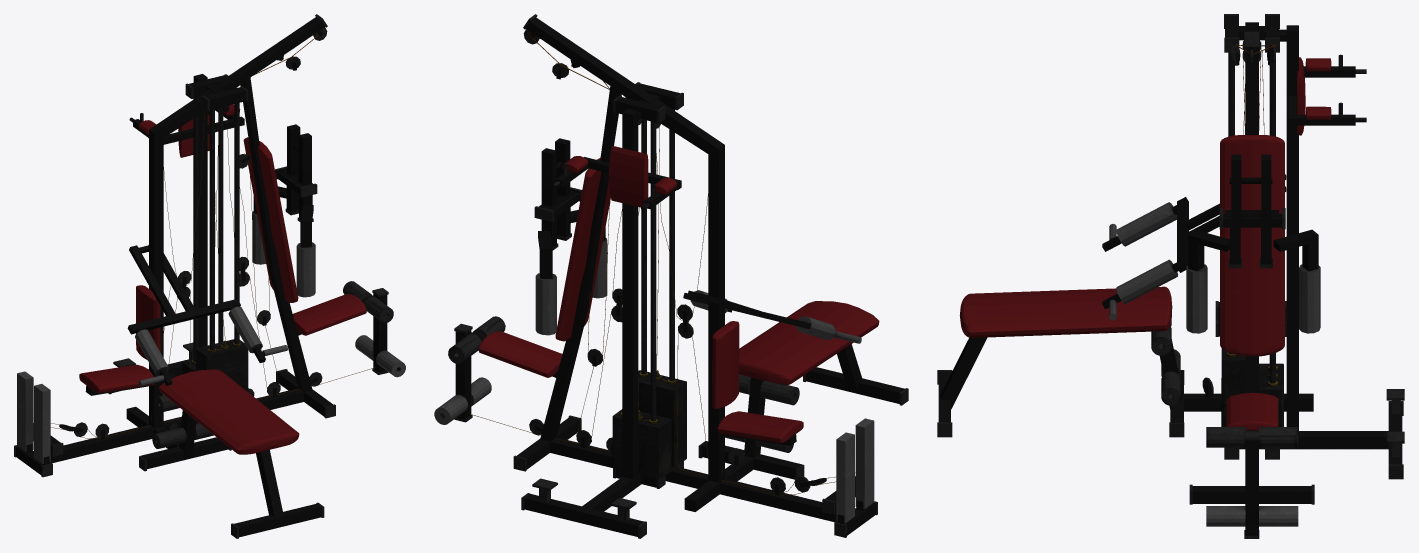
Rendered from Gym Multiple.obj.
The picture shows the model from 3 angles, left to right: view 1: azimuth 30°, elevation 25°; view 2: azimuth 150°, elevation 25°; view 3: azimuth 270°, elevation 25°; orthographic projection. The views are drawn at different scales.
Parts seen in each view (by area): view 1: MAINFRAME001, Weights002, CABLES001; view 2: MAINFRAME001, Weights002, CABLES001; view 3: MAINFRAME001, Weights002.
Part boxes in pixels (x1=…): MAINFRAME001: x1=14, y1=14, x2=393, y2=538; Weights002: x1=17, y1=124, x2=405, y2=463; CABLES001: x1=29, y1=35, x2=375, y2=439; MAINFRAME001: x1=448, y1=14, x2=908, y2=538; Weights002: x1=434, y1=138, x2=874, y2=523; CABLES001: x1=468, y1=35, x2=860, y2=495; MAINFRAME001: x1=937, y1=14, x2=1404, y2=504; Weights002: x1=1102, y1=154, x2=1320, y2=538.
Bounding box in the file's own units: 81.42 × 82.36 × 72.79.
